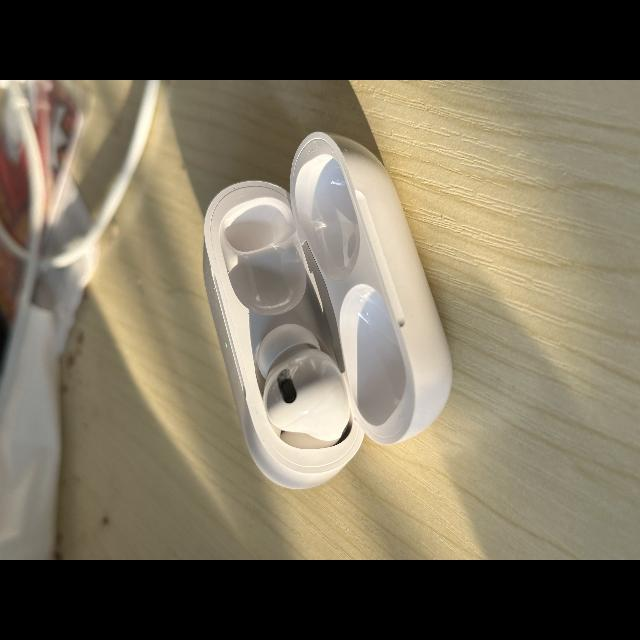AirPods Pro: (204, 131, 452, 489)
